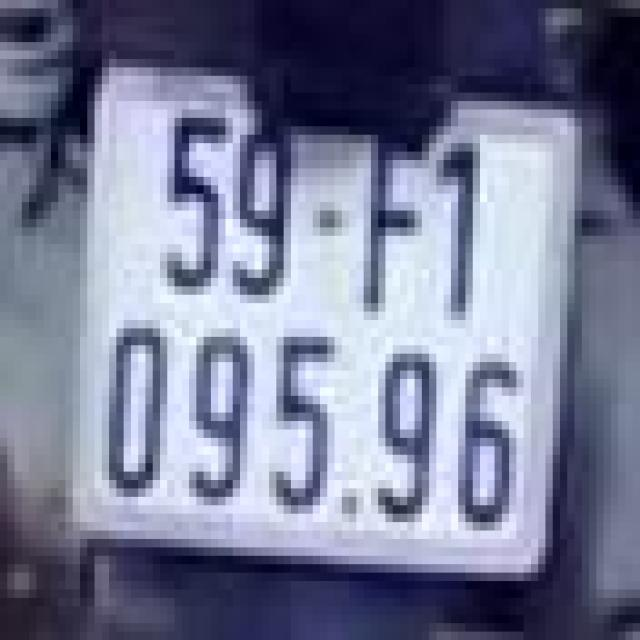0: (102, 308, 174, 510)
1: (433, 114, 491, 332)
5: (266, 324, 338, 526), (160, 105, 233, 299)
6: (447, 332, 535, 552)
9: (229, 97, 302, 299), (371, 332, 444, 534), (182, 329, 254, 522)
F: (352, 109, 432, 320)
